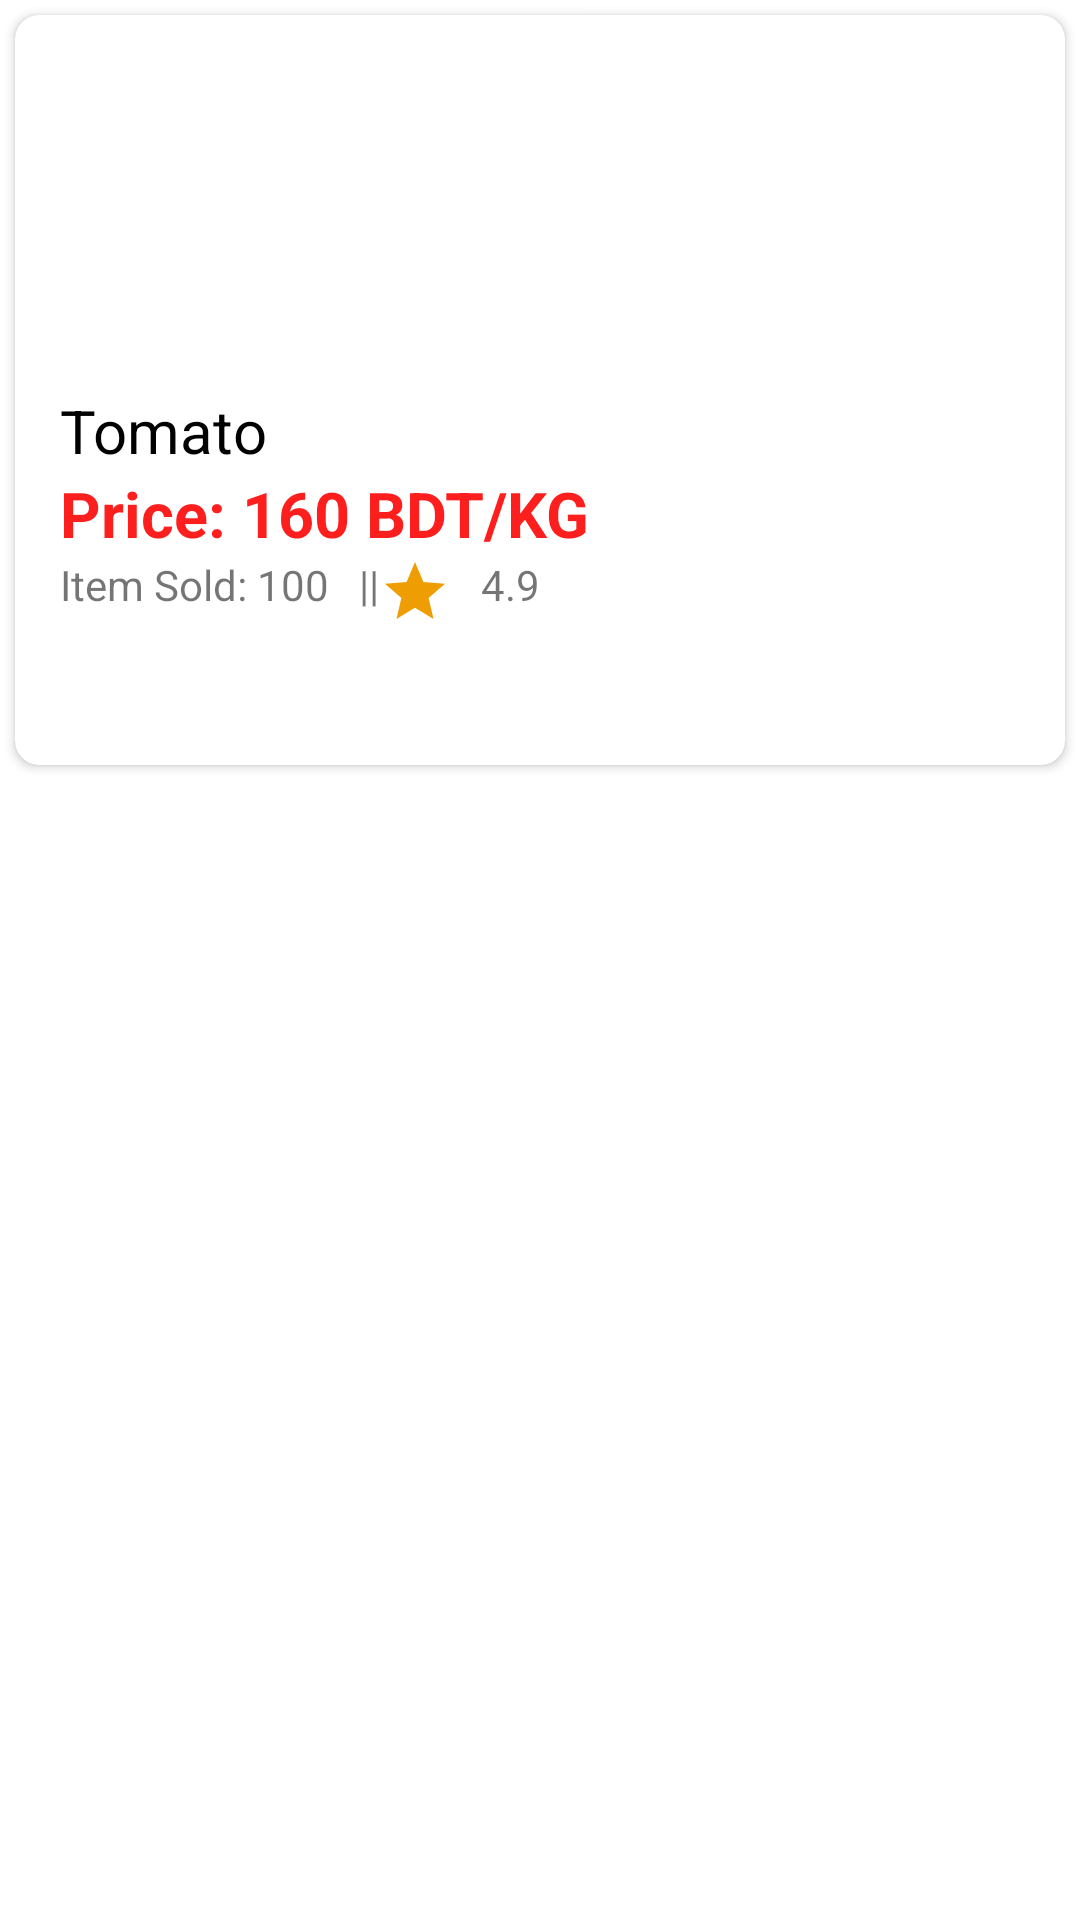

Where to tap for icons on this 1080×1920 app screen, as [x,y]:
star: [415,590]
